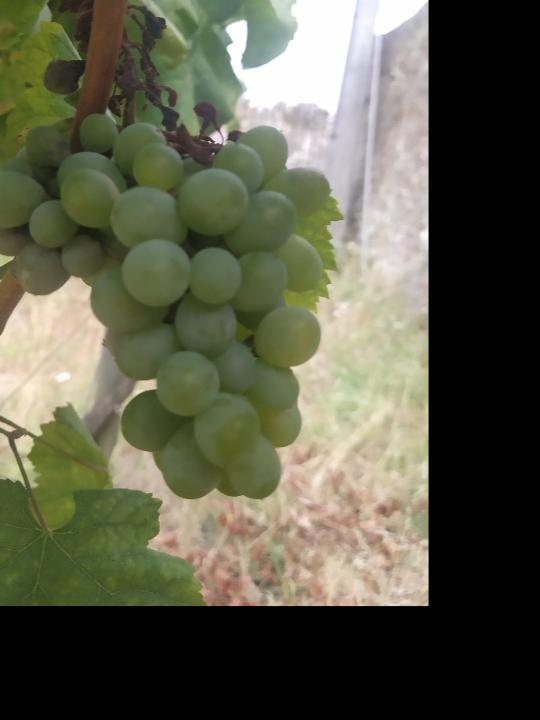grape: (0, 0, 335, 501)
